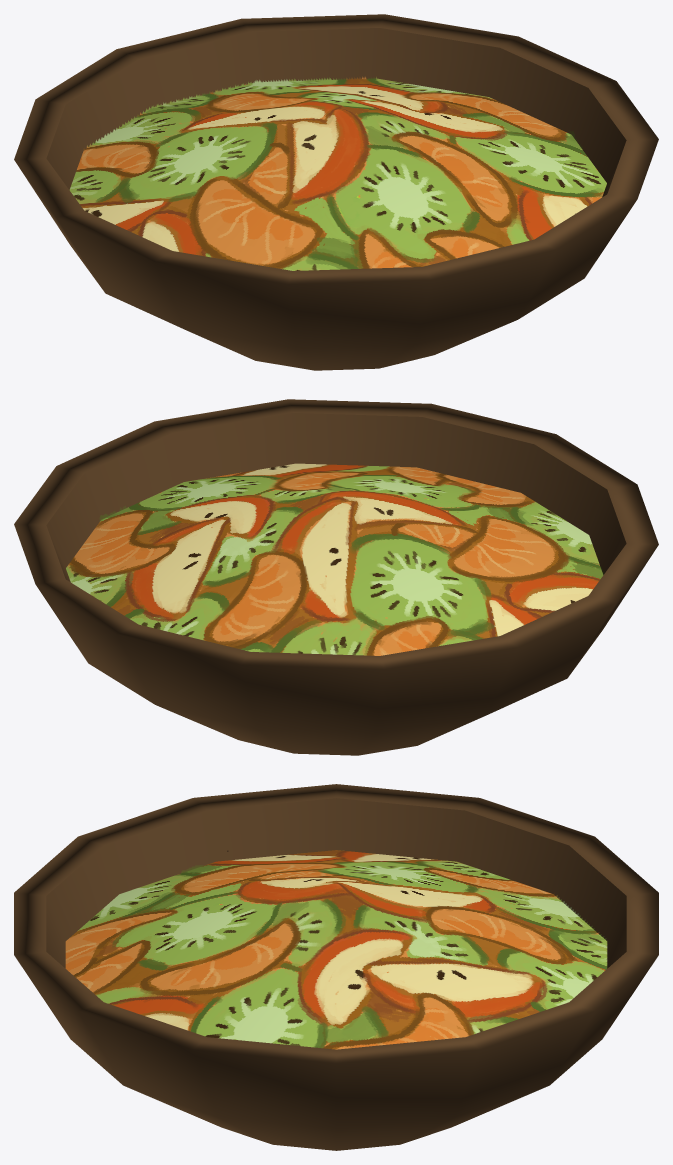
File: fruitSalad.fbx
3 renders of one model, top to bottom at view 1: azimuth 30°, elevation 25°; view 2: azimuth 150°, elevation 25°; view 3: azimuth 270°, elevation 25°, orthographic. The views are drawn at different scales.
Parts seen in each view (by area): view 1: fruit salad; view 2: fruit salad; view 3: fruit salad.
Boxes of the visible parts, x1,y1,x2,y2 form: fruit salad: (14,14,658,370); fruit salad: (14,399,658,755); fruit salad: (14,784,658,1150).
Size of the model in its own units: 44.15 by 15.08 by 43.04.
Materials: 1 (1 with a texture image).
